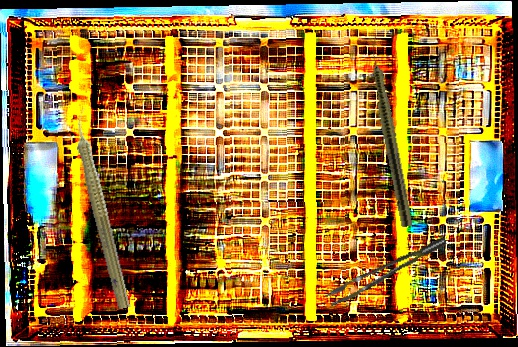Handpiece: (65, 106, 139, 311), (363, 33, 416, 228)
Tissue Forceps: (320, 237, 454, 307)
